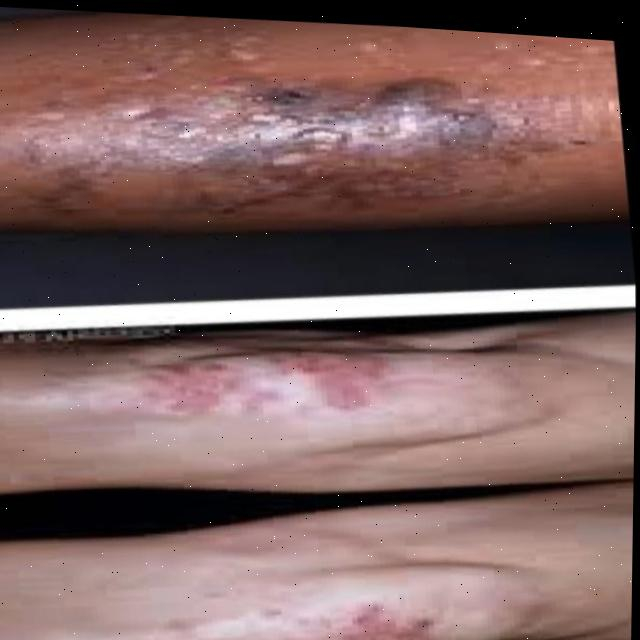Eczema: (24, 11, 520, 231), (124, 294, 386, 431), (200, 572, 443, 640)
